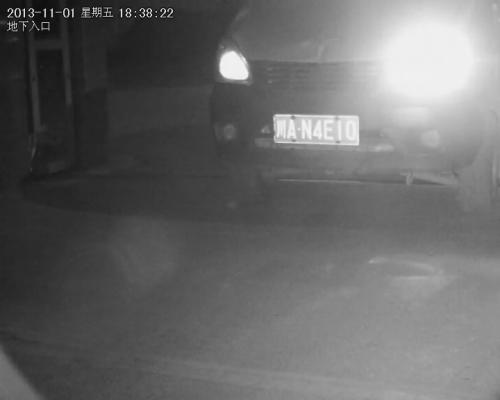Carplate: (271, 111, 361, 151)
